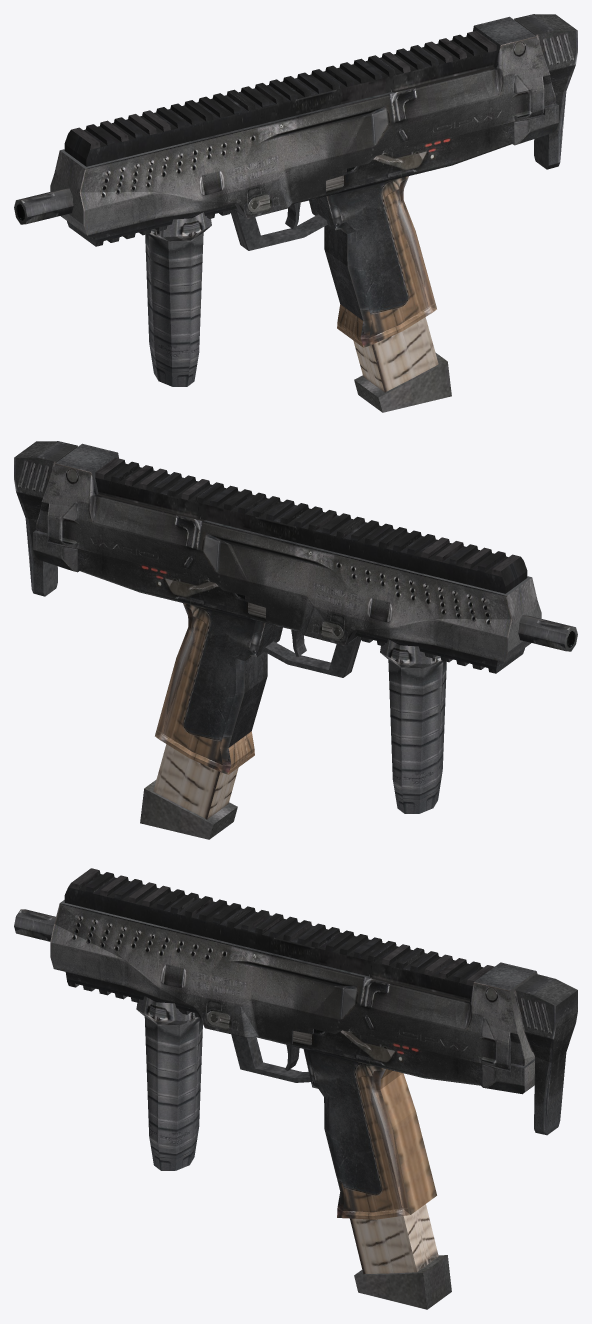
Rendered from w_stcpw.obj.
3 renders of one model, top to bottom at view 1: azimuth 30°, elevation 25°; view 2: azimuth 150°, elevation 25°; view 3: azimuth 330°, elevation 25°, orthographic.
Visible parts, largest first — view 1: Cube_Cube.001; view 2: Cube_Cube.001; view 3: Cube_Cube.001.
Part boxes in pixels (box(x1,y1,x2,y2)): Cube_Cube.001: box(14, 14, 577, 412); Cube_Cube.001: box(14, 441, 577, 839); Cube_Cube.001: box(14, 868, 577, 1309).
Size of the model in its own units: 8.79 by 5.23 by 1.19.
